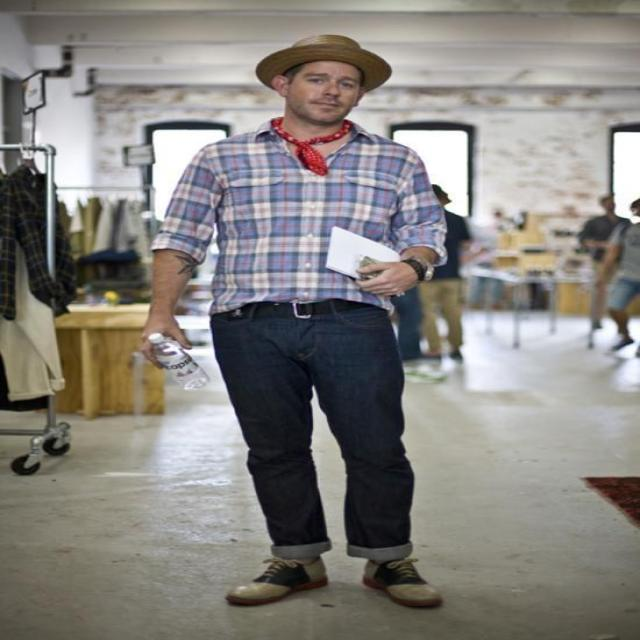pants: (206, 300, 414, 559)
shirt: (151, 119, 449, 315)
